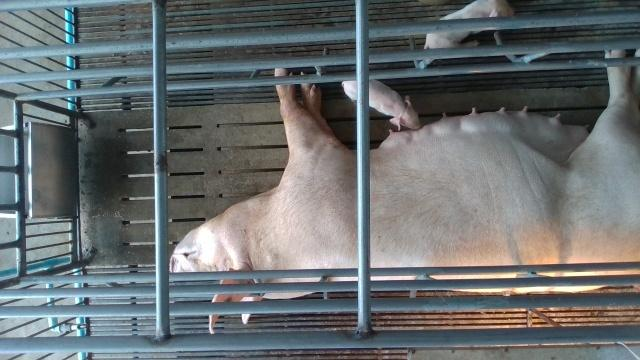piglet: (423, 0, 515, 50), (341, 78, 422, 131)
sow-sleep-lactate: (168, 49, 640, 335)
